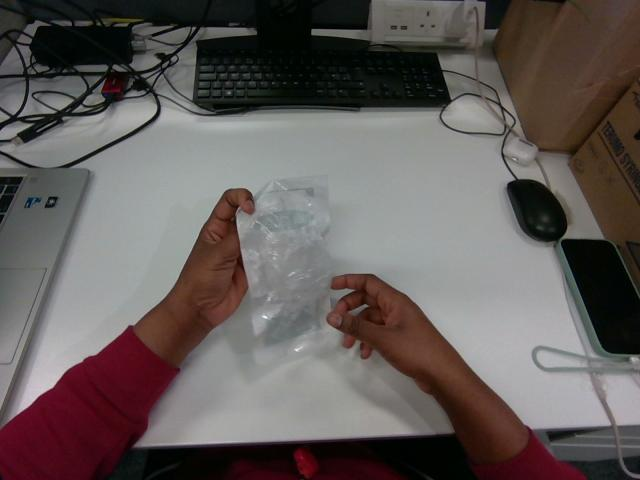gallipot: (236, 176, 331, 362)
